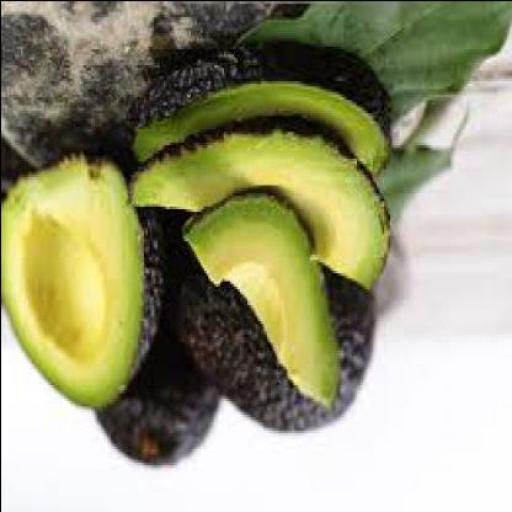biodegradable: (2, 3, 320, 171), (166, 221, 379, 435), (131, 126, 393, 299), (2, 152, 164, 410), (131, 46, 395, 178), (186, 192, 338, 411), (238, 1, 510, 116), (98, 361, 221, 464), (371, 149, 467, 235), (371, 232, 411, 326), (2, 134, 25, 200), (391, 109, 423, 152)
